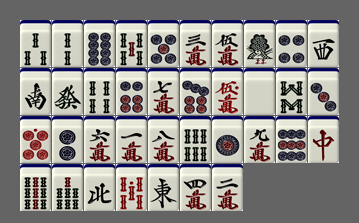0m: (212, 68, 243, 115)
0p: (20, 116, 51, 163)
0s: (116, 164, 147, 211)
1m: (116, 116, 147, 163)
1p: (212, 116, 243, 163)
1s: (244, 20, 275, 67)
1z: (148, 164, 179, 211)
2m: (212, 164, 243, 211)
2p: (52, 116, 83, 163)
2s: (52, 20, 83, 67)
2z: (20, 68, 51, 115)
3m: (180, 20, 211, 67)
3p: (308, 68, 339, 115)
3s: (20, 20, 51, 67)
3z: (308, 20, 339, 67)
4m: (180, 164, 211, 211)
4p: (276, 20, 307, 67)
4s: (84, 68, 115, 115)
4z: (84, 164, 115, 211)
5m: (212, 20, 243, 67)
5p: (148, 20, 179, 67)
5s: (116, 20, 147, 67)
5z: (244, 68, 275, 115)
6m: (84, 116, 115, 163)
6p: (116, 68, 147, 115)
6s: (180, 116, 211, 163)
6z: (52, 68, 83, 115)
7m: (148, 68, 179, 115)
7p: (180, 68, 211, 115)
7s: (52, 164, 83, 211)
7z: (308, 116, 339, 163)
8m: (148, 116, 179, 163)
8p: (84, 20, 115, 67)
8s: (276, 68, 307, 115)
9m: (244, 116, 275, 163)
9p: (276, 116, 307, 163)
9s: (20, 164, 51, 211)
